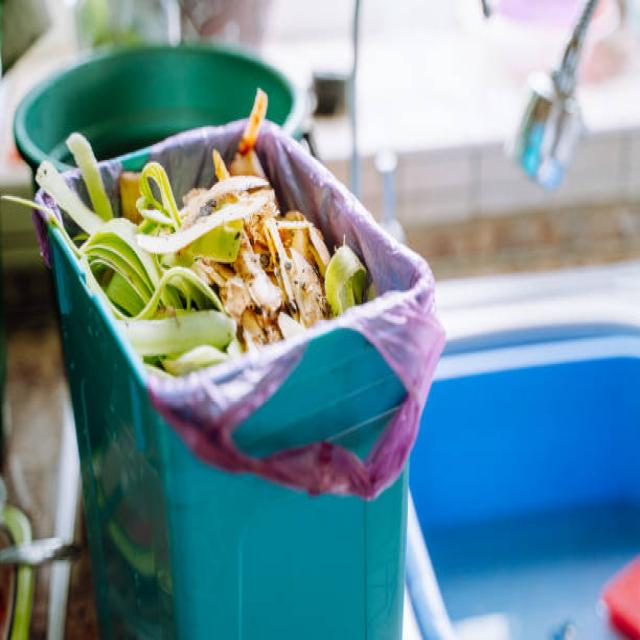trash: (9, 116, 501, 522)
